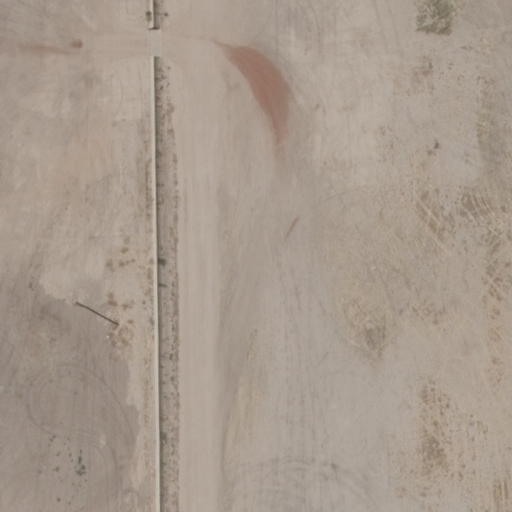DT: (104, 313, 126, 335)
